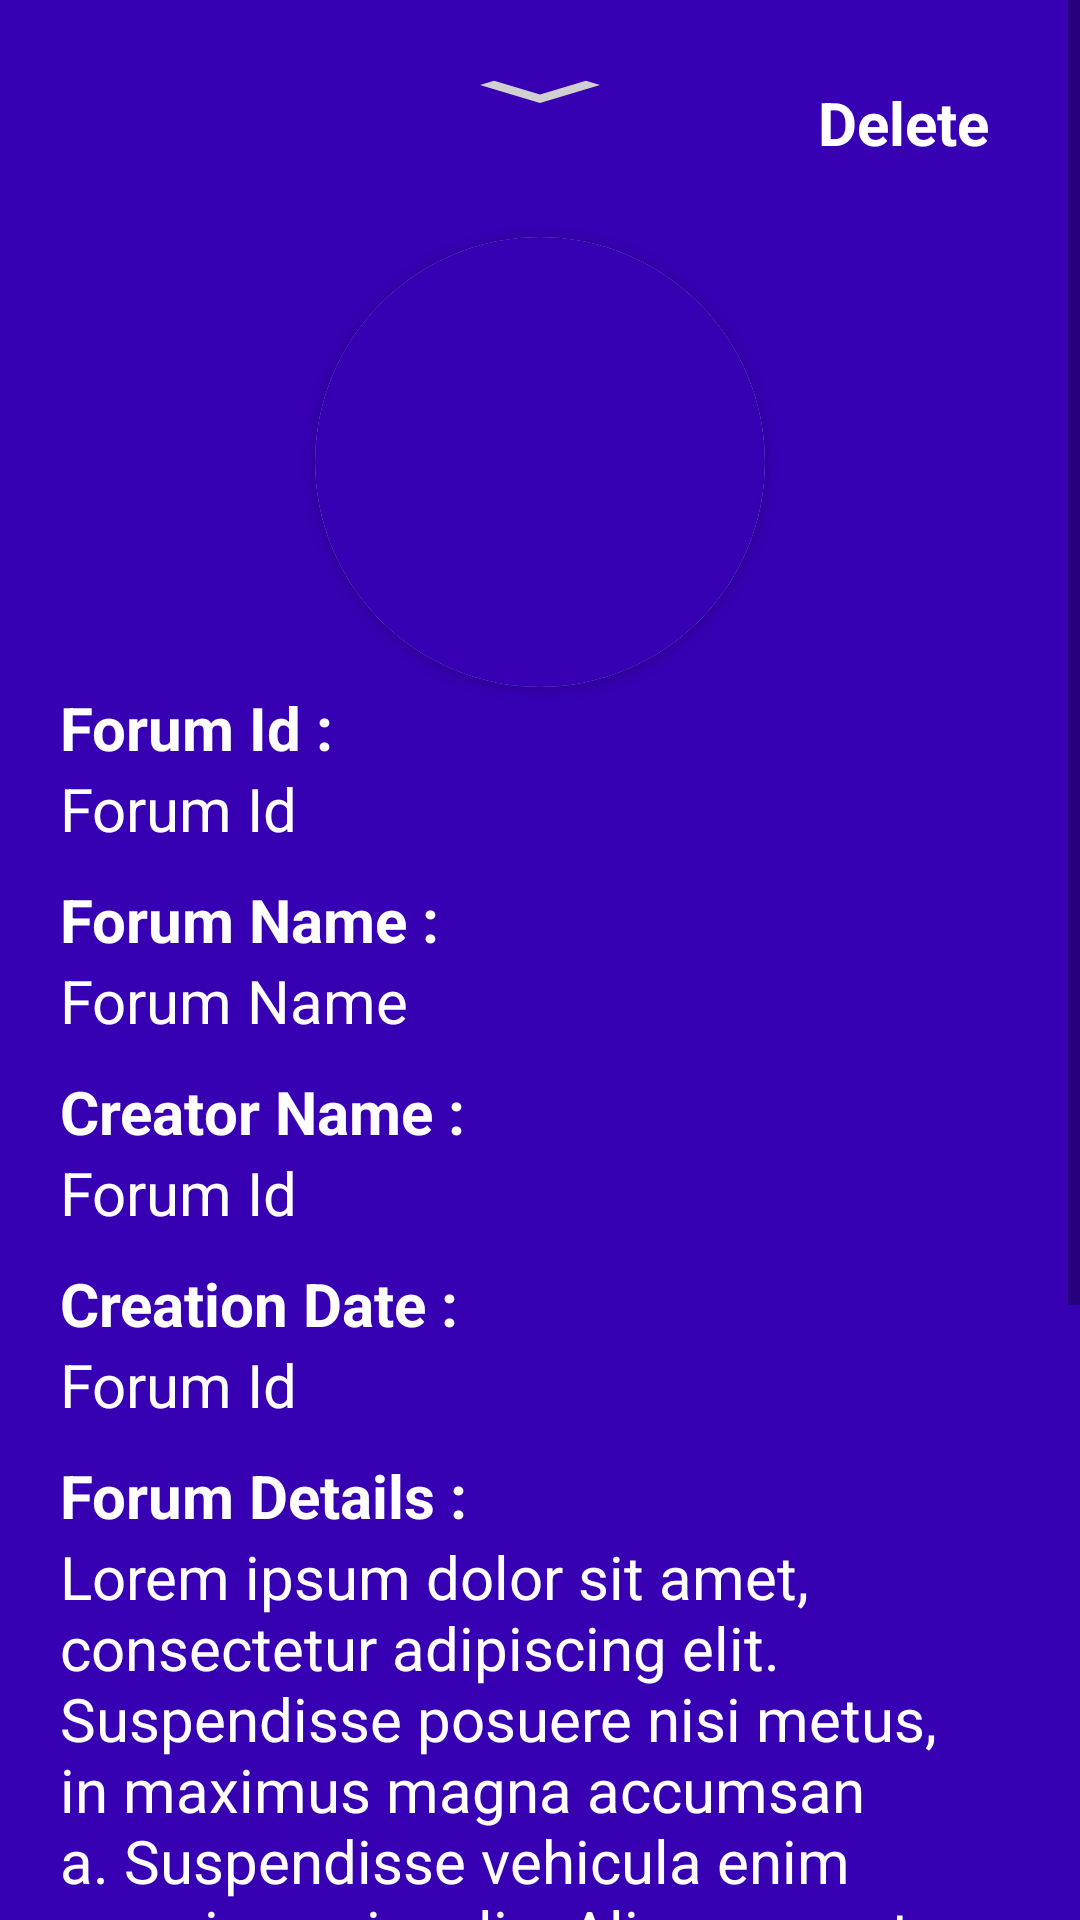

Icon click points for this 1080px×1920px phone screenshot, format (x=x, y=y):
keyboard arrow down: (x=540, y=91)
